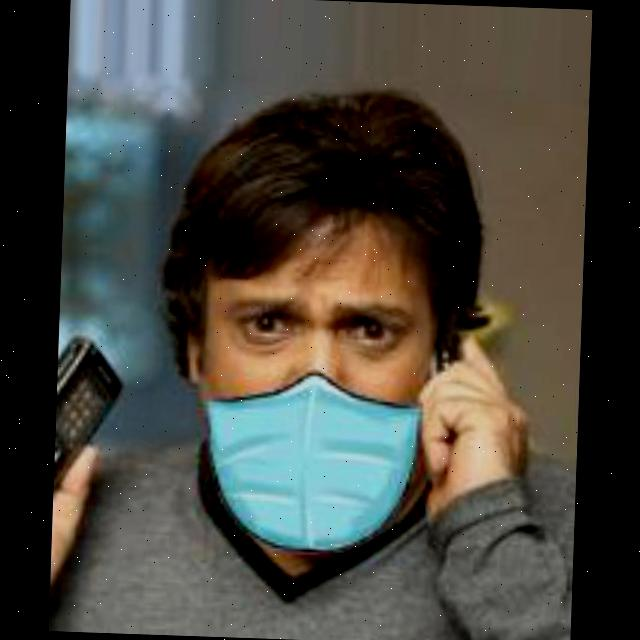suspicion: (117, 133, 483, 640)
